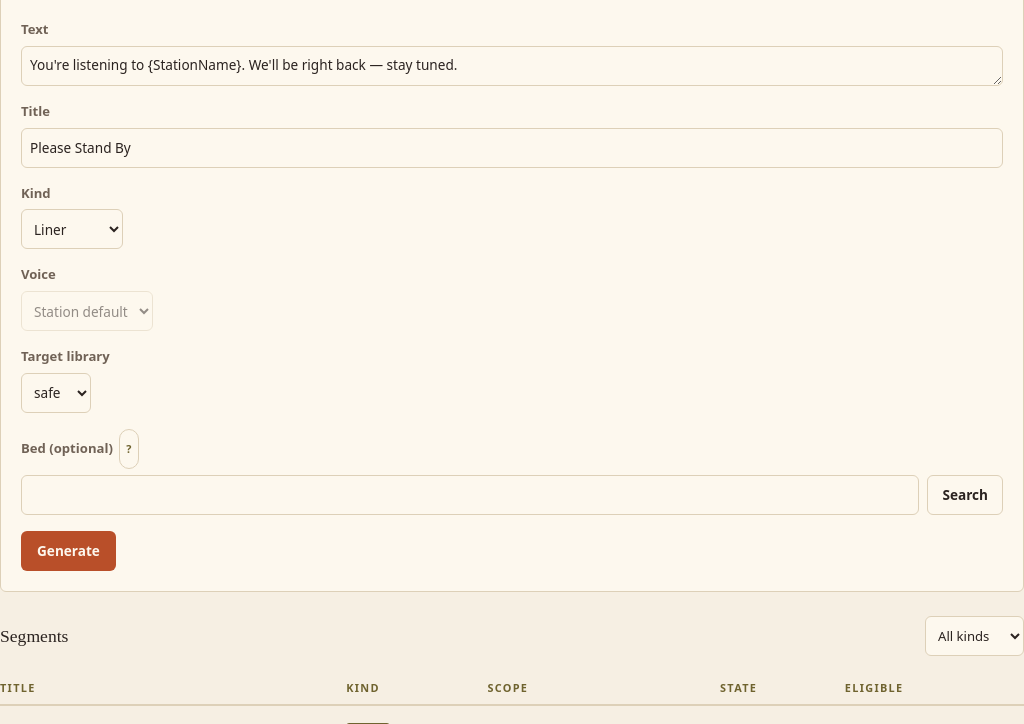
Feature: Station sounds redesign › Scenario: generate flow with toast and disabled state › prepends the new segment to the list
Click the button "Generate": x=68, y=551 21,531 -> 116,571
(page scrolled)
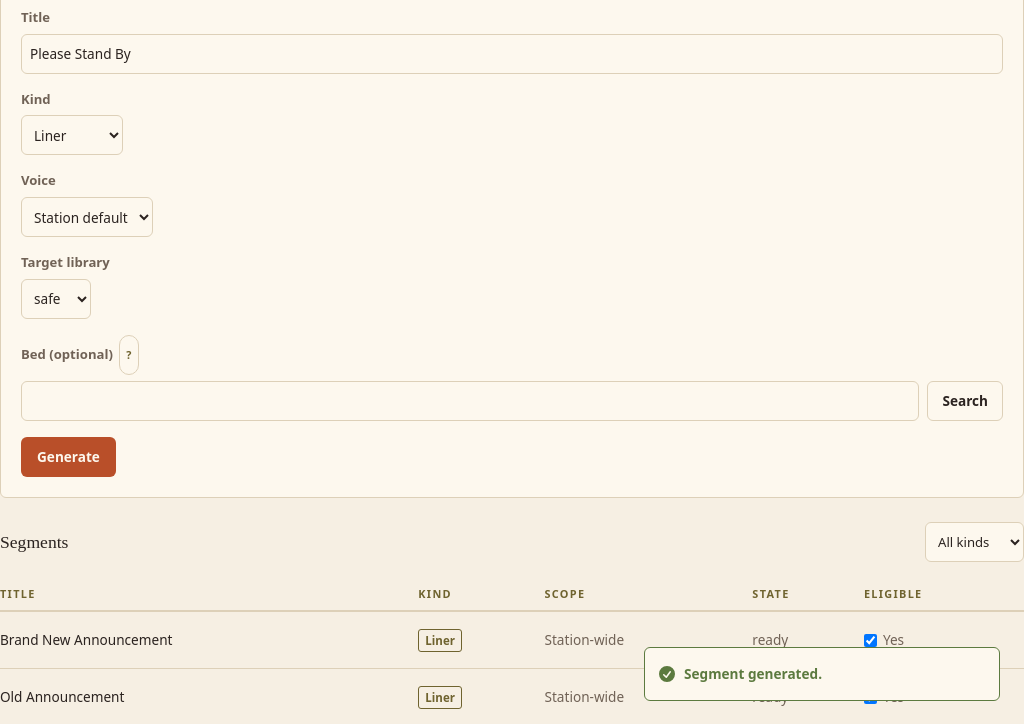
Expected: the row "Brand New Announcement Liner Station-wide ready Yes" is shown, 0,611 -> 1023,669
